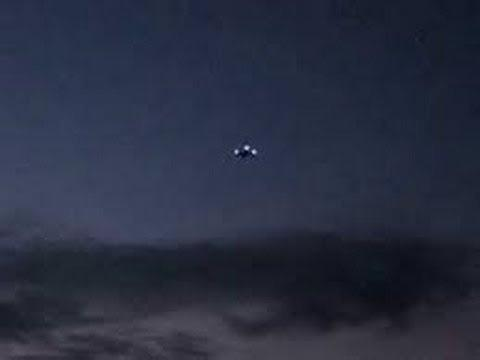Plane: (219, 138, 272, 162)
